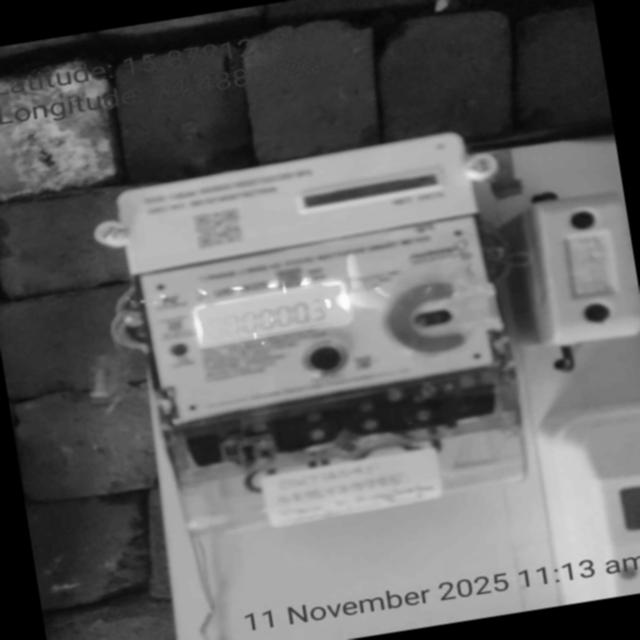meter: (119, 128, 512, 424)
